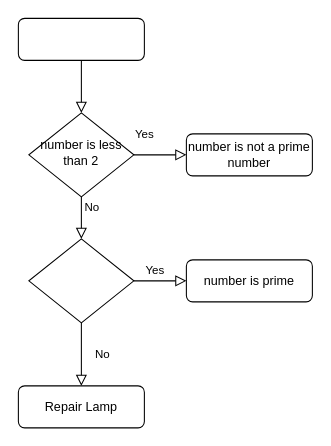
Image size: 331x446. Some labels were removed from this diagram. The centre of each missing label's shape, as x and y in pixels:
If: [80,38]
number is equal to 2: [81,280]
